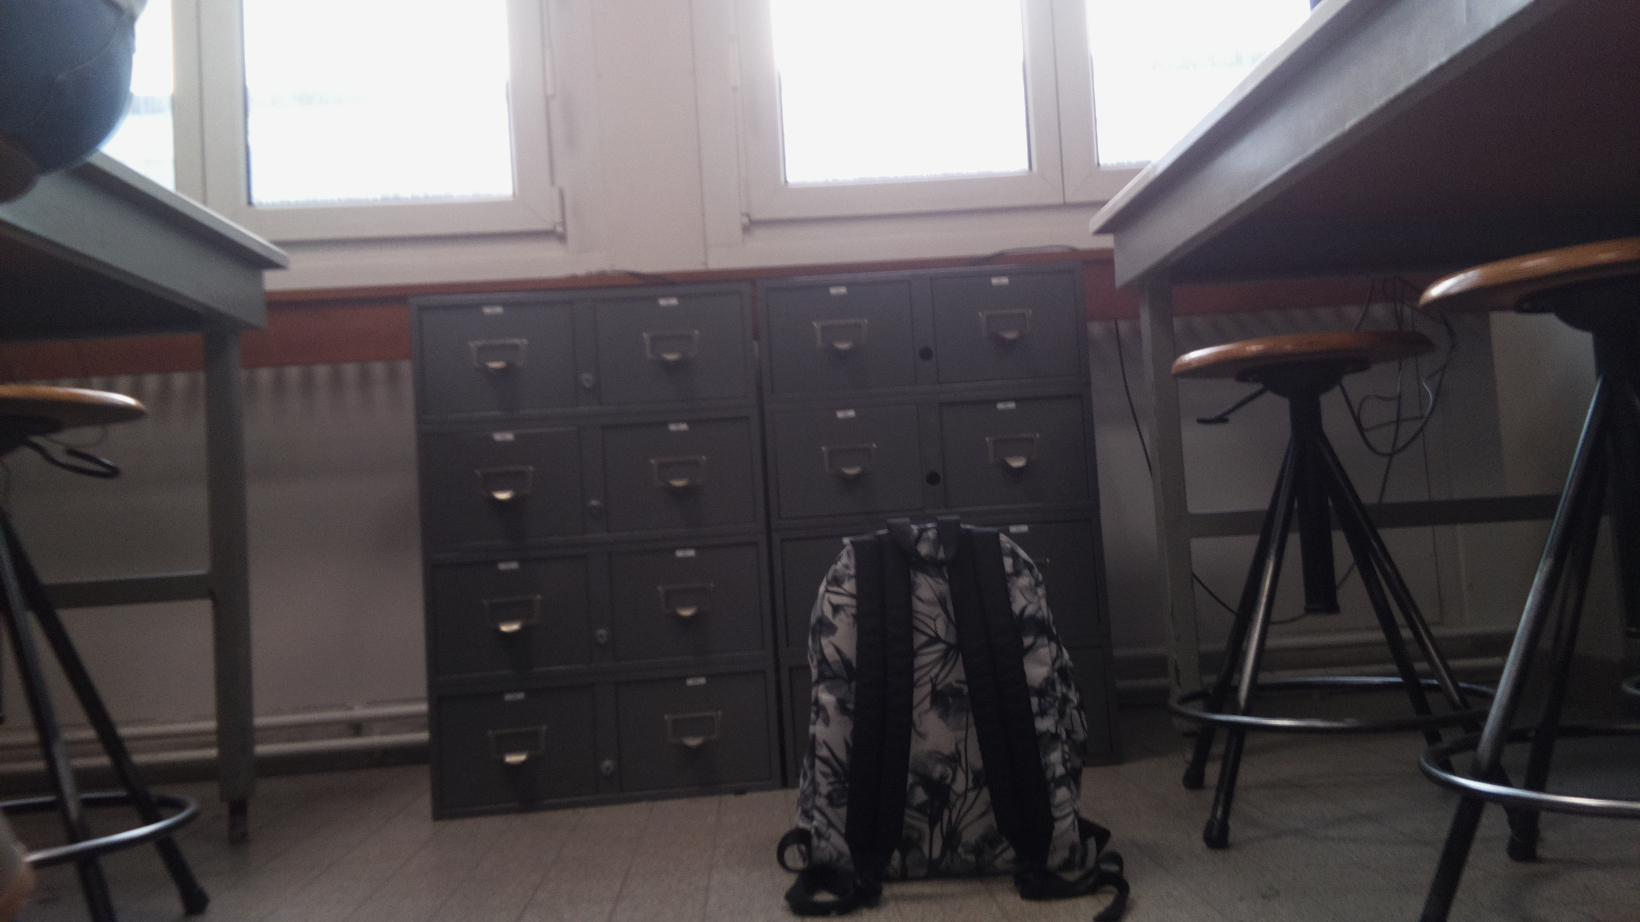big: (775, 513, 1141, 922)
